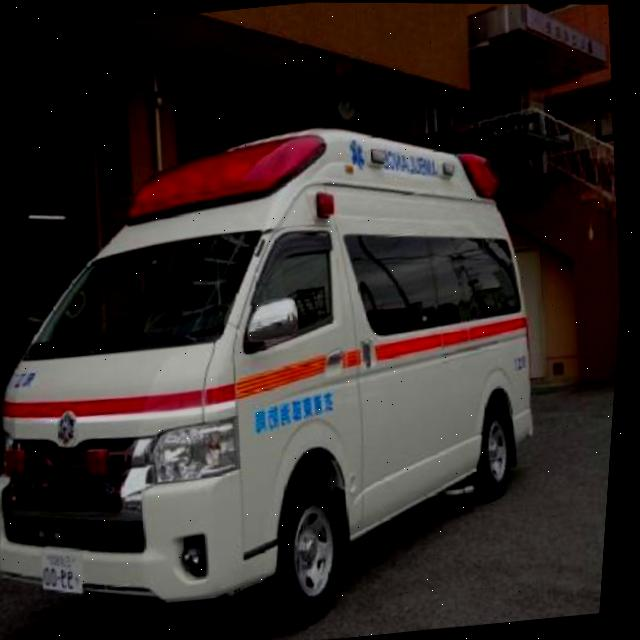emergency: (0, 102, 575, 640)
